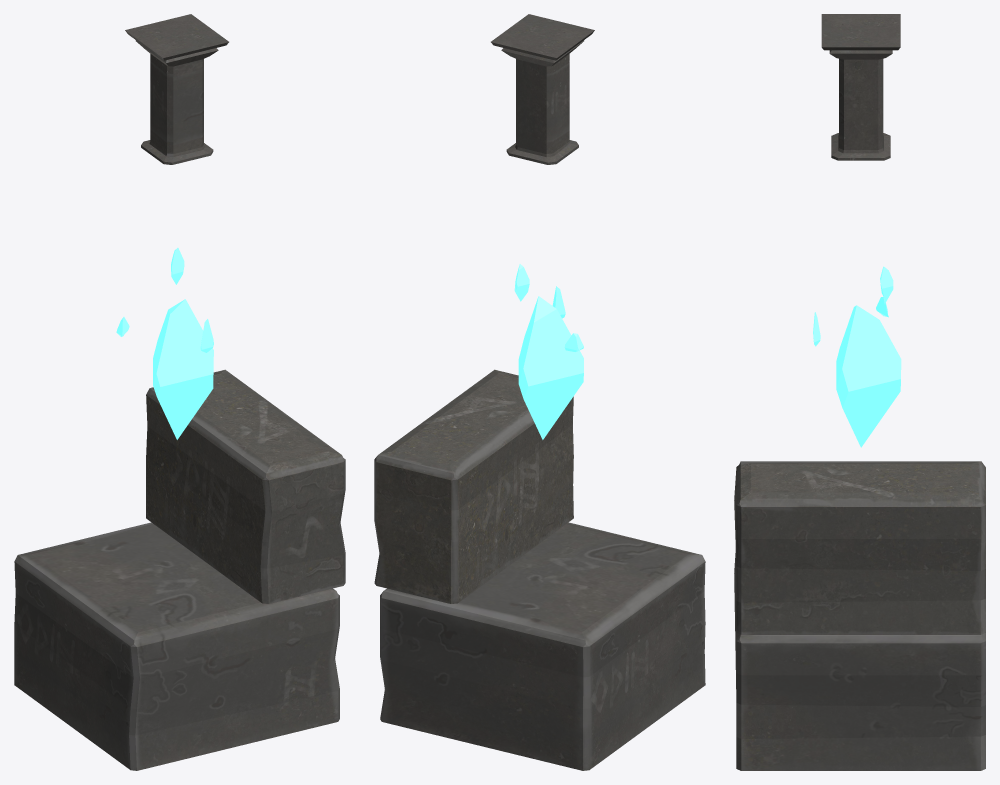
File: BPW_2.fbx
3 views of the same model, side by side, from view 1: azimuth 30°, elevation 25°; view 2: azimuth 150°, elevation 25°; view 3: azimuth 270°, elevation 25° (orthographic). The views are drawn at different scales.
Parts seen in each view (by area): view 1: Wall_Big, Wall_Small, Cube, Crystal; view 2: Wall_Big, Wall_Small, Cube, Crystal; view 3: Wall_Small, Wall_Big, Cube, Crystal.
Part boxes in pixels (x1=…): Wall_Big: x1=14, y1=522, x2=339, y2=770; Wall_Small: x1=146, y1=369, x2=345, y2=603; Cube: x1=125, y1=14, x2=228, y2=164; Crystal: x1=116, y1=248, x2=213, y2=439; Wall_Big: x1=380, y1=522, x2=705, y2=770; Wall_Small: x1=374, y1=369, x2=573, y2=603; Cube: x1=491, y1=14, x2=594, y2=164; Crystal: x1=514, y1=264, x2=583, y2=439; Wall_Small: x1=734, y1=461, x2=985, y2=634; Wall_Big: x1=734, y1=550, x2=985, y2=770; Cube: x1=821, y1=14, x2=900, y2=160; Crystal: x1=813, y1=266, x2=901, y2=447.
Bounding box in the file's own units: 515 × 1521 × 504.
